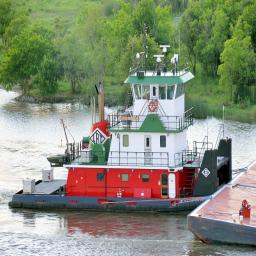tugboat: (8, 43, 235, 216)
